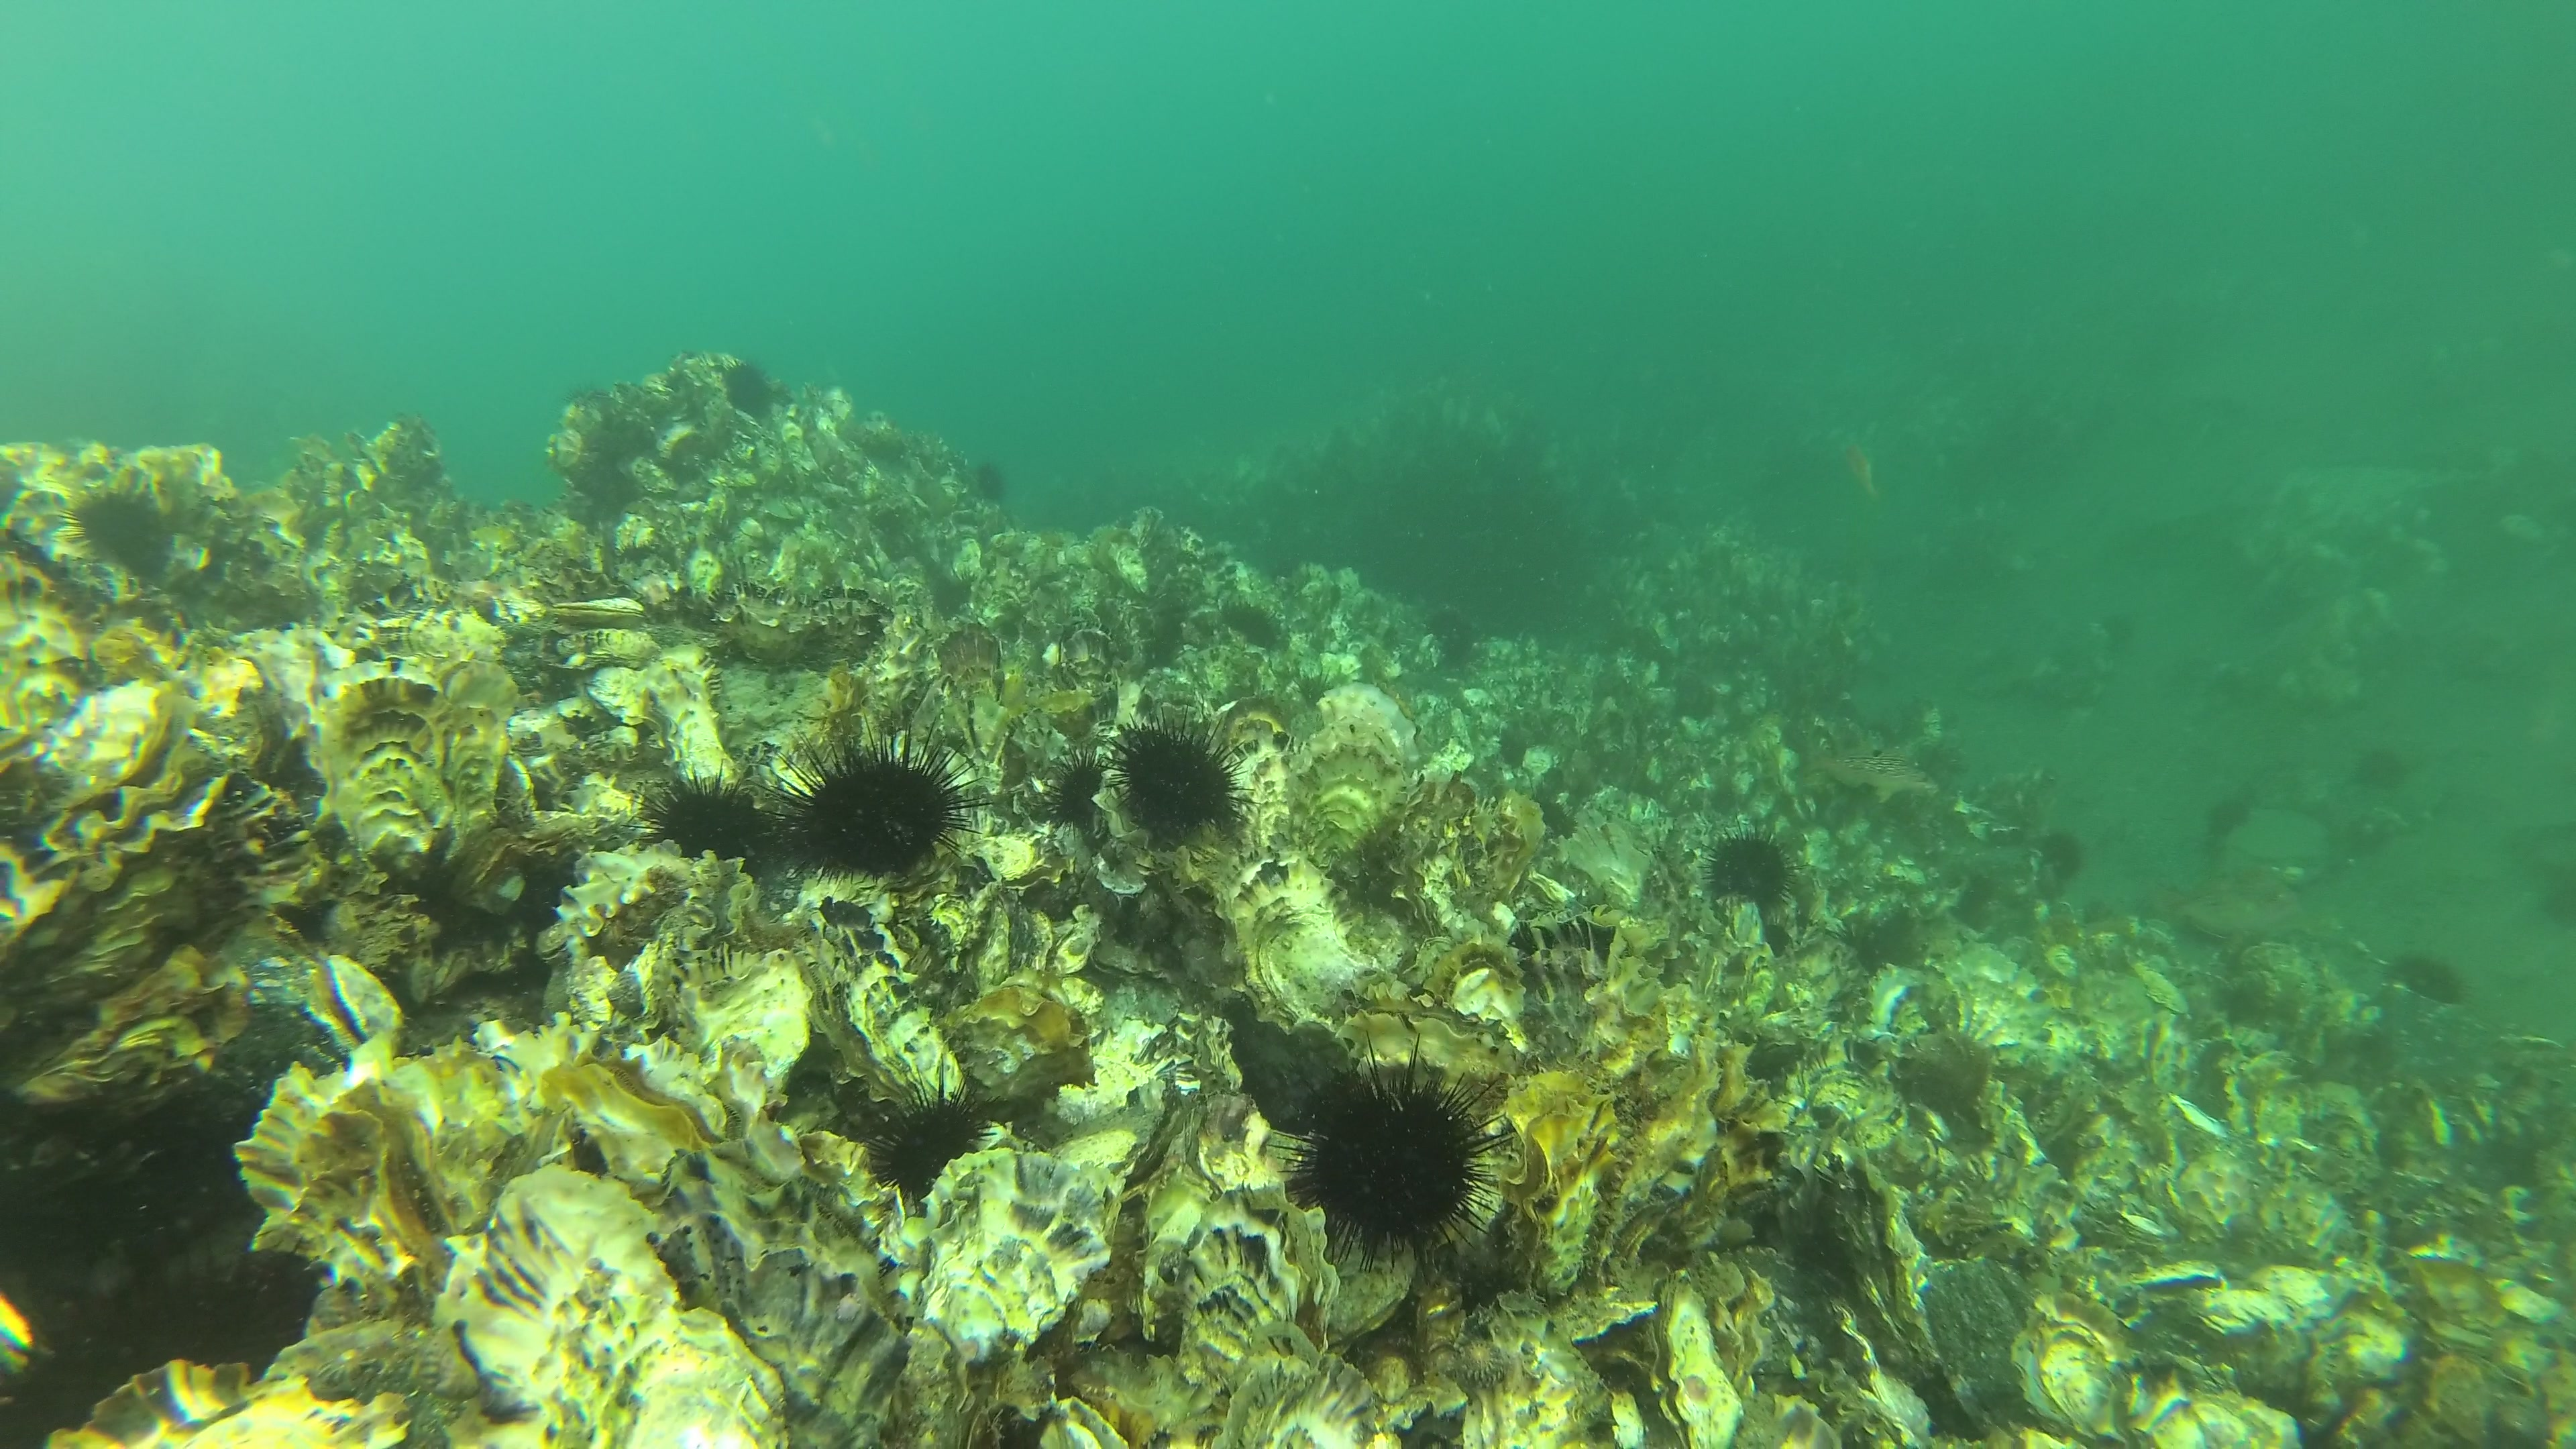echinus: (1270, 1046, 1511, 1272), (784, 713, 985, 878), (858, 1058, 1005, 1217), (1111, 706, 1254, 853), (637, 770, 786, 874), (60, 483, 175, 573), (1707, 816, 1794, 908), (1040, 750, 1111, 832), (2392, 947, 2463, 1010), (1422, 605, 1483, 667), (725, 356, 780, 421), (2203, 800, 2259, 860), (1224, 602, 1288, 655), (2033, 824, 2082, 886), (966, 455, 1008, 508), (2357, 752, 2406, 796)
